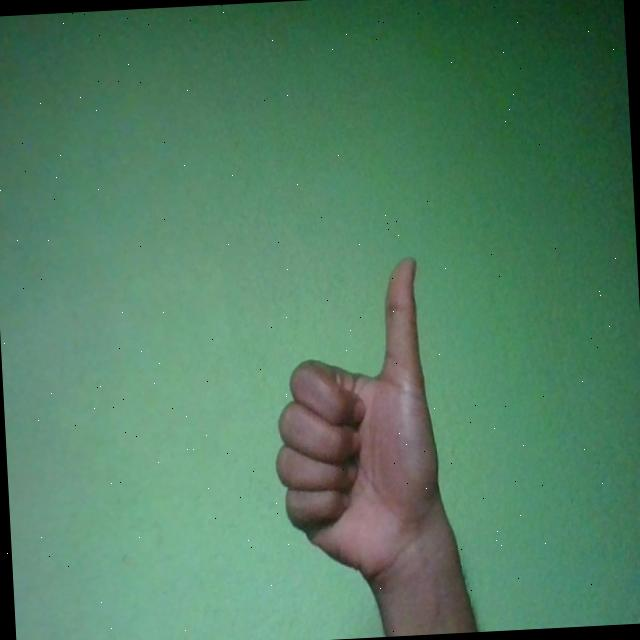Good Job: (264, 255, 446, 592)
